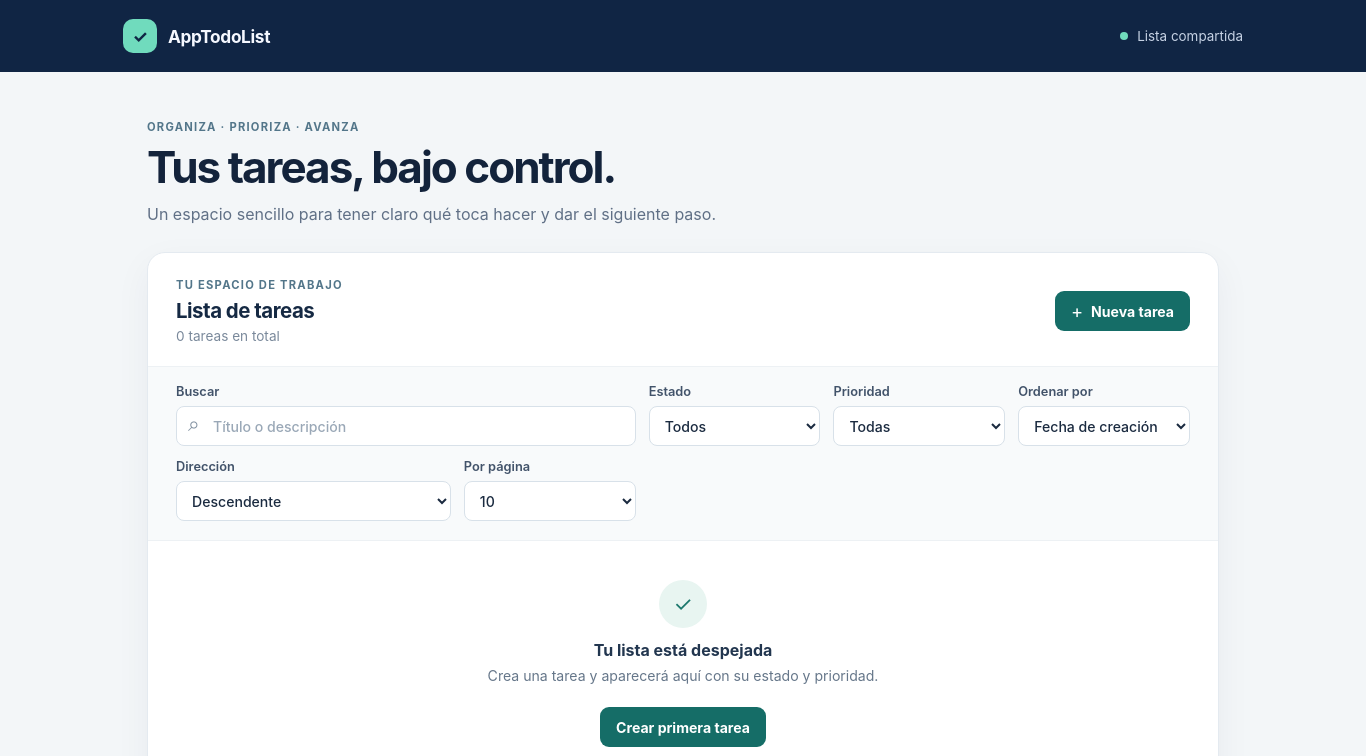
it: AppTodoList › muestra la lista vacía y permite crear una tarea persistida
Expected: the heading "Tu lista está despejada" is shown, [594,640,772,660]
Click the button "Crear primera tarea".
click(683, 727)  # box [600,707,766,747]
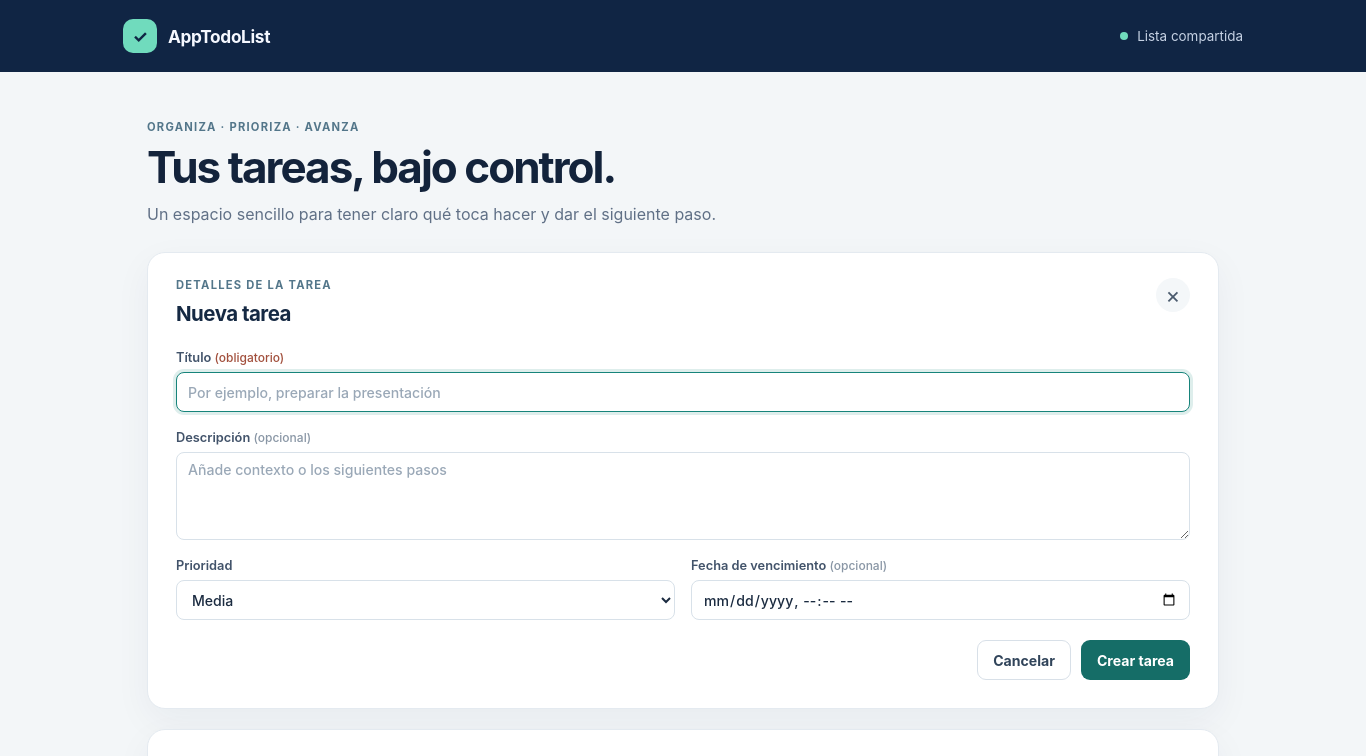
Type "Preparar la demo" into the field labelled "Título (obligatorio)".
click(683, 392); type("Preparar la demo")  # box [176,372,1190,412]
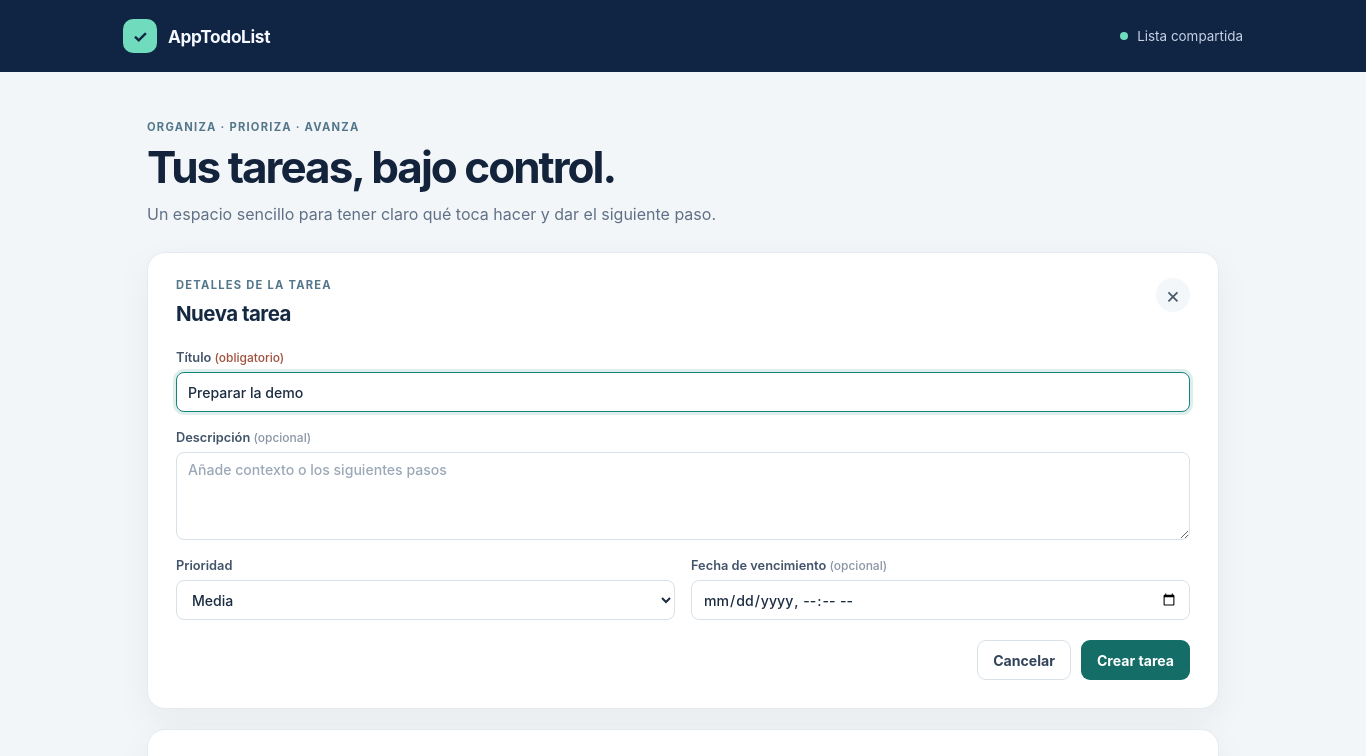
Click the button "Crear tarea".
click(1135, 660)  # box [1081,640,1190,680]
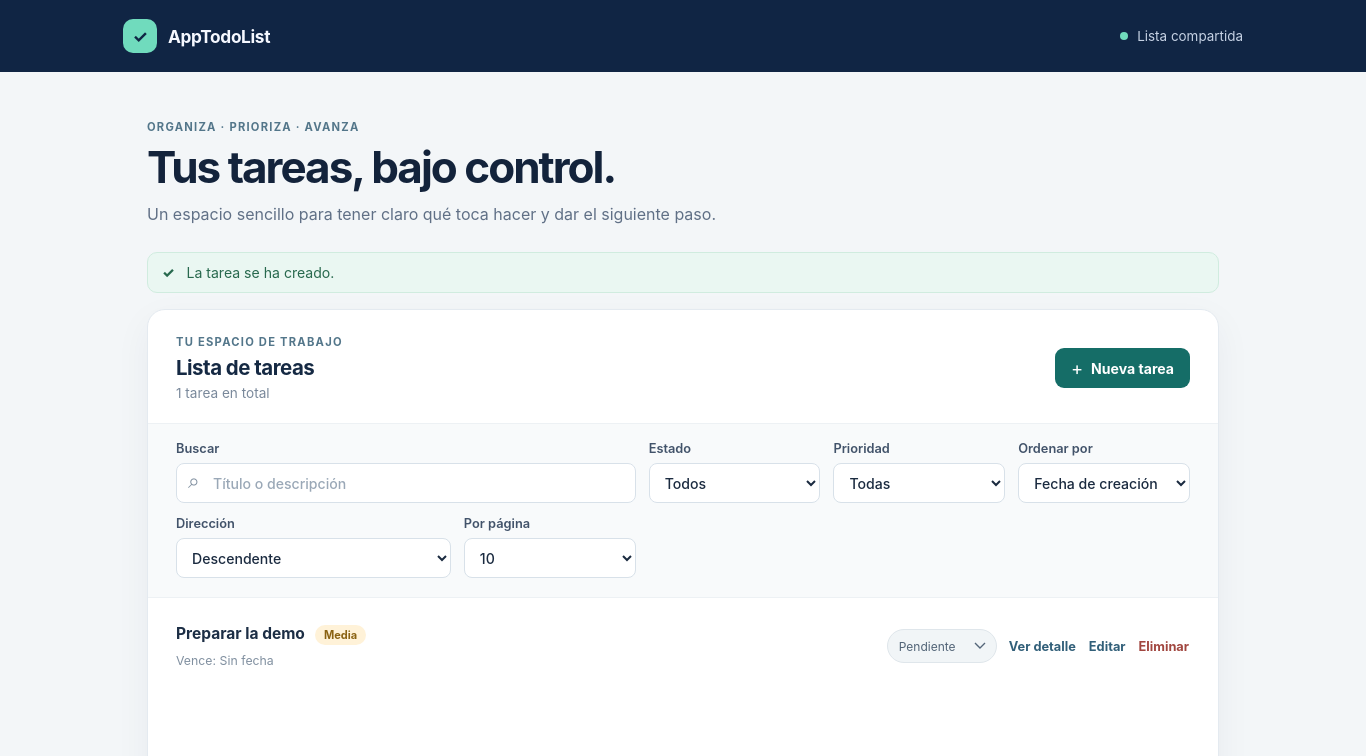
Expected: the text "La tarea se ha creado." is shown, [186,264,334,281]
Expected: the heading "Preparar la demo" is shown, [176,624,305,645]
